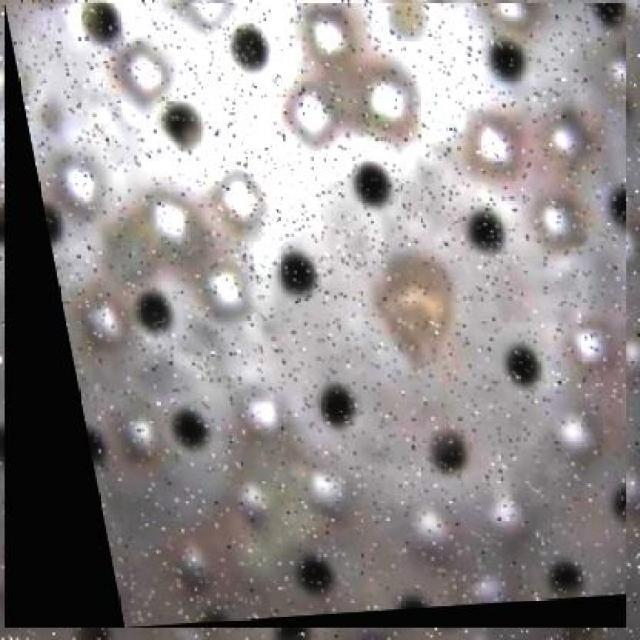Manhole: (4, 2, 626, 628)
